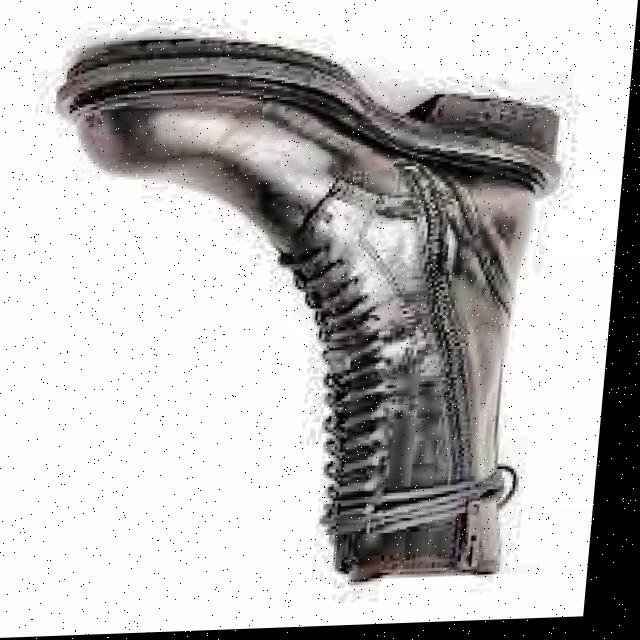shoes: (3, 13, 601, 621)
